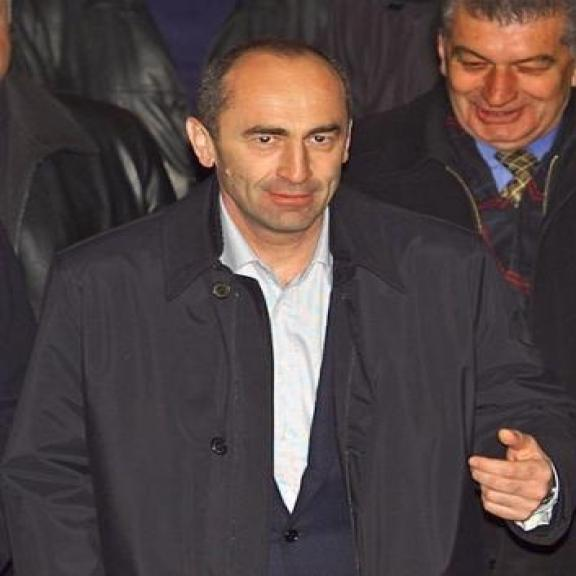face: (189, 77, 366, 233), (432, 6, 576, 148)
